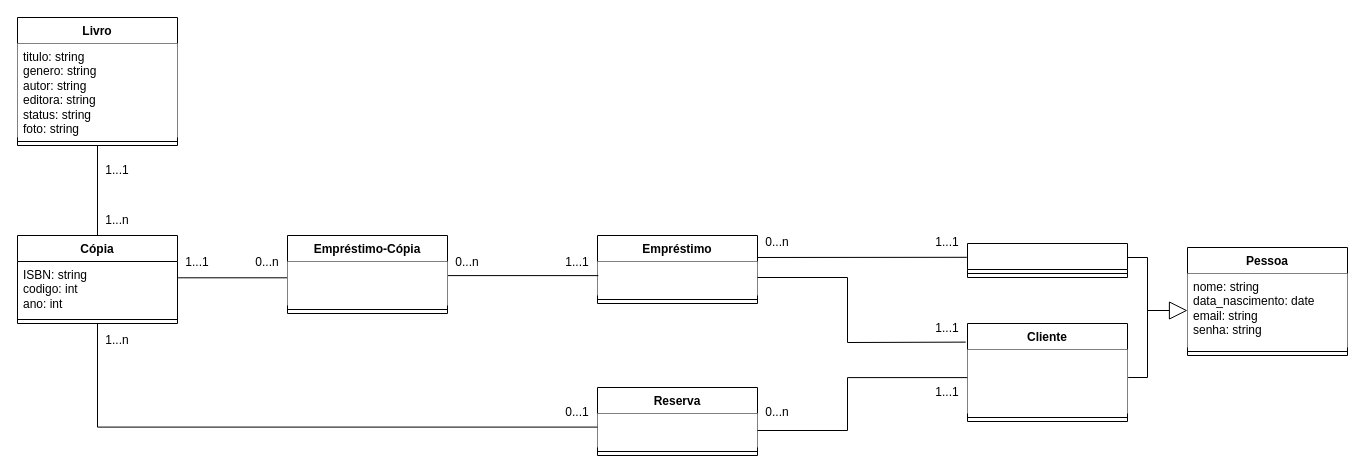
The diagram is 1365 pixels wide and 473 high, and some of its shapes have lost their labels. The centre of each missing label's shape, as x and y in pixels:
"dataDevolucao: date dataPrevista: date" goes at (x=367, y=283).
"dataPrevistaReserva: date" goes at (x=677, y=430).
"dataRetirada: date" goes at (x=677, y=278).
"Secretário" goes at (x=1047, y=260).
"telefone: string listaEmprestimos: string listaReservas: string" goes at (x=1047, y=381).
